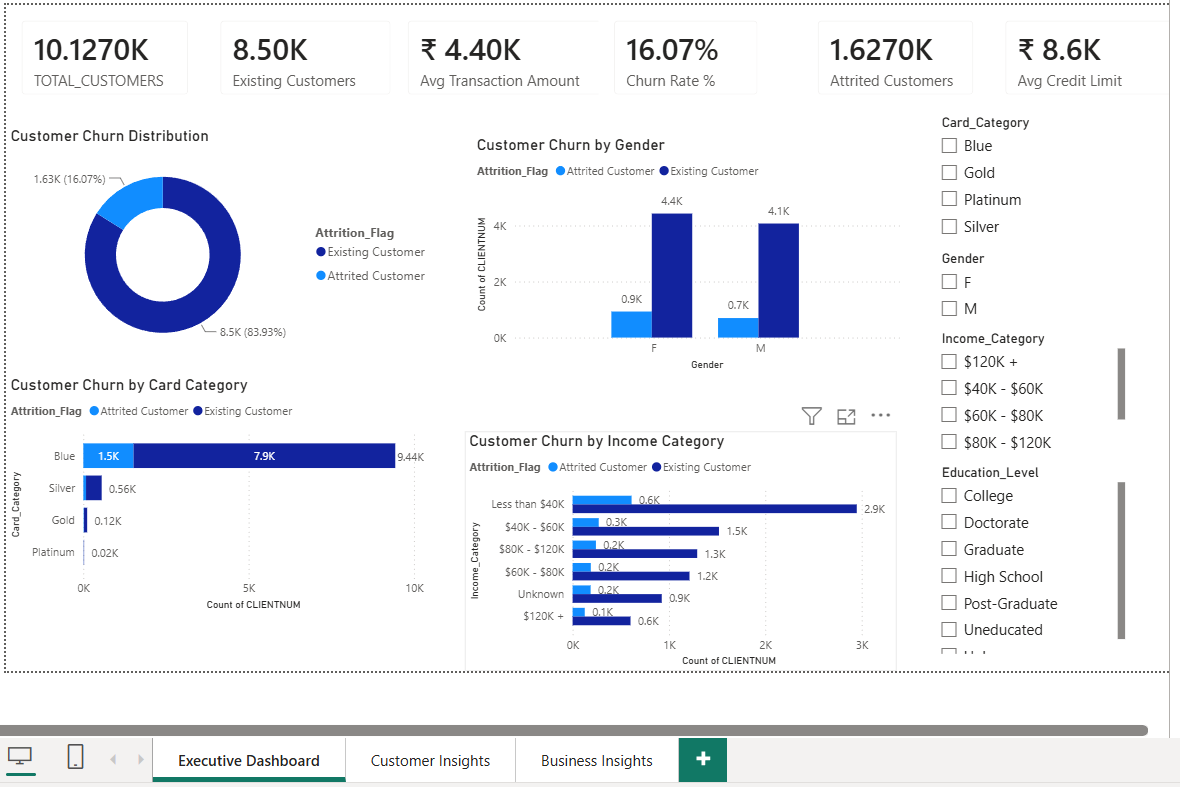

What the dashboard file says about the page in this screenshot:
{"tool":"powerbi","page":{"name":"Executive Dashboard","canvas":[1280,720],"ordinal":0},"visuals":[{"type":"cardVisual","fields":{"Data":["credit_card_churn bankchurners.TOTAL_CUSTOMERS"]},"box":[0,0,214.3,114.3],"z":0},{"type":"cardVisual","fields":{"Data":["credit_card_churn bankchurners.Existing Customers"]},"box":[214.3,0,218.4,114.3],"z":1000},{"type":"cardVisual","fields":{"Data":["credit_card_churn bankchurners.Attrited Customers"]},"box":[861.2,0,202,114.3],"z":2000},{"type":"cardVisual","fields":{"Data":["credit_card_churn bankchurners.Avg Credit Limit"]},"box":[1063.3,0,216.3,114.3],"z":3000},{"type":"cardVisual","fields":{"Data":["credit_card_churn bankchurners.Avg Transaction Amount"]},"box":[418.1,0,251,114.3],"z":4000},{"type":"cardVisual","fields":{"Data":["credit_card_churn bankchurners.Churn Rate %"]},"box":[640.8,0,189.8,114.3],"z":5000},{"type":"donutChart","title":"Customer Churn Distribution","fields":{"Category":["credit_card_churn bankchurners.Attrition_Flag"],"Y":["CountNonNull(credit_card_churn bankchurners.CLIENTNUM)"]},"box":[0,130.6,467.3,259.2],"z":6000},{"type":"clusteredColumnChart","title":"Customer Churn by Gender","fields":{"Category":["credit_card_churn bankchurners.Gender"],"Y":["CountNonNull(credit_card_churn bankchurners.CLIENTNUM)"],"Series":["credit_card_churn bankchurners.Attrition_Flag"]},"box":[504.1,140.8,467,259],"z":7000},{"type":"barChart","title":"Customer Churn by Card Category","fields":{"Category":["credit_card_churn bankchurners.Card_Category"],"Y":["CountNonNull(credit_card_churn bankchurners.CLIENTNUM)"],"Series":["credit_card_churn bankchurners.Attrition_Flag"]},"box":[0,400.5,467,259],"z":8000},{"type":"clusteredBarChart","title":"Customer Churn by Income Category","fields":{"Category":["credit_card_churn bankchurners.Income_Category"],"Y":["CountNonNull(credit_card_churn bankchurners.CLIENTNUM)"],"Series":["credit_card_churn bankchurners.Attrition_Flag"]},"box":[495.9,461.2,467,259],"z":9000},{"type":"slicer","fields":{"Values":["credit_card_churn bankchurners.Card_Category"]},"box":[998.1,113.9,216.2,146.3],"z":10000},{"type":"slicer","fields":{"Values":["credit_card_churn bankchurners.Gender"]},"box":[998.1,260.2,216.2,99.7],"z":11000},{"type":"slicer","fields":{"Values":["credit_card_churn bankchurners.Income_Category"]},"box":[998.1,346.9,216.2,145],"z":12000},{"type":"slicer","fields":{"Values":["credit_card_churn bankchurners.Education_Level"]},"box":[998.1,491.9,216.2,214.9],"z":13000}]}

Visuals, with their boxes on the page's 1280x720 design canvas (x1, y1, x2, y2). These are canvas units, not pixel positions in the 1180x787 screenshot, which may show the page scaled, cropped or inside an application window:
cardVisual - credit_card_churn bankchurners.TOTAL_CUSTOMERS: detection(0, 0, 214, 114)
cardVisual - credit_card_churn bankchurners.Existing Customers: detection(214, 0, 433, 114)
cardVisual - credit_card_churn bankchurners.Attrited Customers: detection(861, 0, 1063, 114)
cardVisual - credit_card_churn bankchurners.Avg Credit Limit: detection(1063, 0, 1280, 114)
cardVisual - credit_card_churn bankchurners.Avg Transaction Amount: detection(418, 0, 669, 114)
cardVisual - credit_card_churn bankchurners.Churn Rate %: detection(641, 0, 831, 114)
"Customer Churn Distribution" donutChart: detection(0, 131, 467, 390)
"Customer Churn by Gender" clusteredColumnChart: detection(504, 141, 971, 400)
"Customer Churn by Card Category" barChart: detection(0, 400, 467, 660)
"Customer Churn by Income Category" clusteredBarChart: detection(496, 461, 963, 720)
slicer - credit_card_churn bankchurners.Card_Category: detection(998, 114, 1214, 260)
slicer - credit_card_churn bankchurners.Gender: detection(998, 260, 1214, 360)
slicer - credit_card_churn bankchurners.Income_Category: detection(998, 347, 1214, 492)
slicer - credit_card_churn bankchurners.Education_Level: detection(998, 492, 1214, 707)
